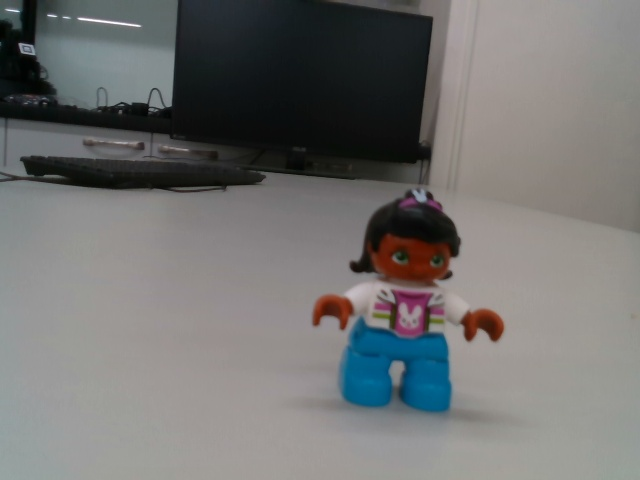people: (312, 187, 508, 414)
